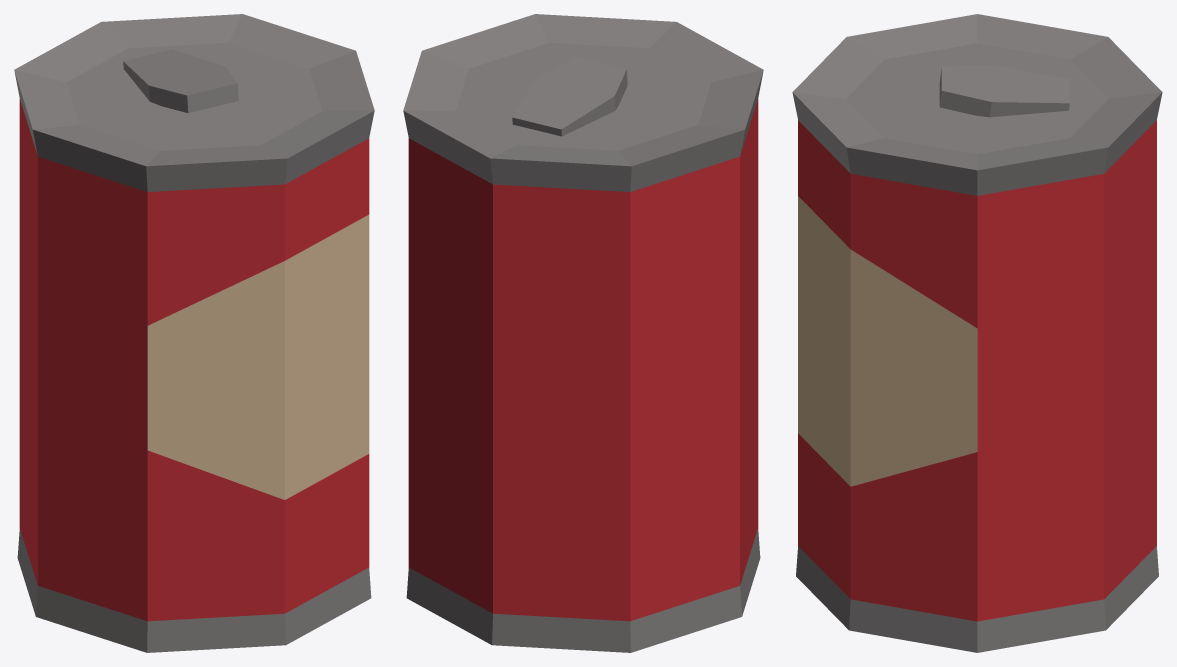
The model's file is can-beans.glb.
3 renders of one model, left to right at view 1: azimuth 30°, elevation 25°; view 2: azimuth 150°, elevation 25°; view 3: azimuth 270°, elevation 25°, orthographic.
Visible parts, largest first — view 1: can-beans; view 2: can-beans; view 3: can-beans.
Part boxes in pixels (x1,y1,x2,y2): can-beans: (14,14,374,652); can-beans: (403,14,763,652); can-beans: (792,14,1162,652).
Size of the model in its own units: 0.1238 by 0.1837 by 0.1238.
1 material, 1 textured.
